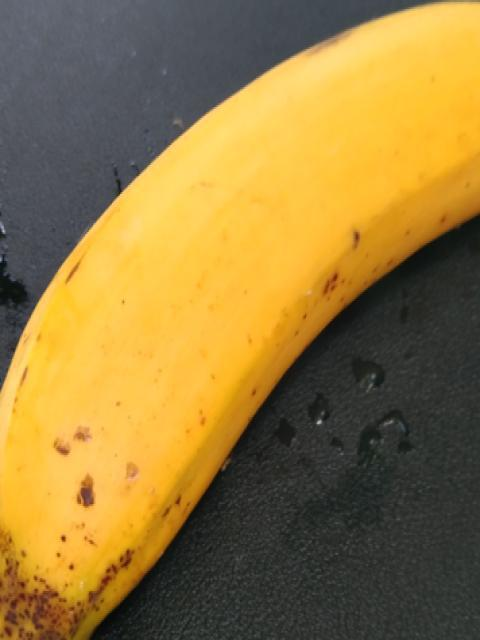freshripe: (3, 0, 479, 639)
